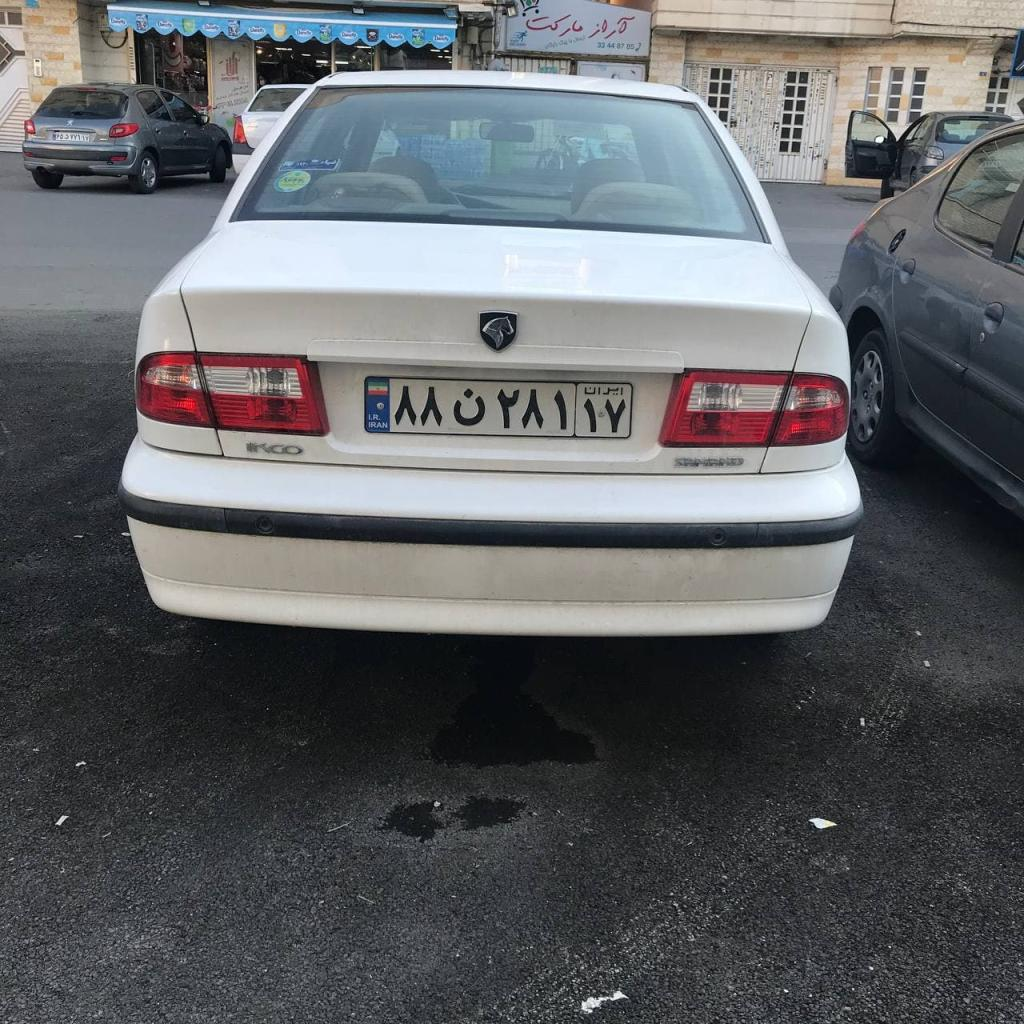Plates: (363, 376, 632, 438)
